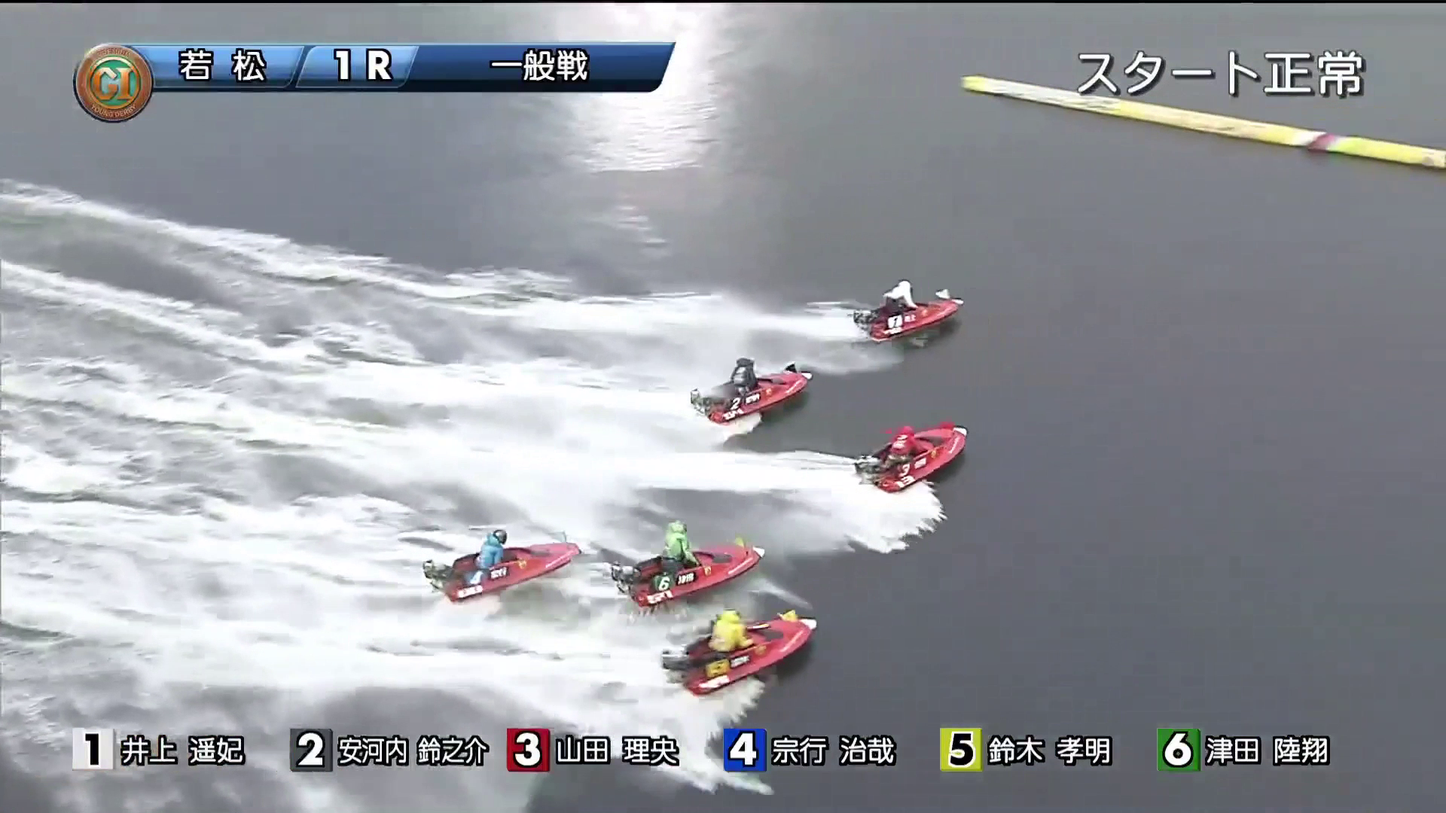１号艇: (872, 282, 1010, 336)
２号艇: (686, 354, 814, 414)
３号艇: (862, 433, 1002, 479)
４号艇: (629, 528, 754, 594)
５号艇: (423, 540, 547, 595)
６号艇: (694, 620, 794, 677)
